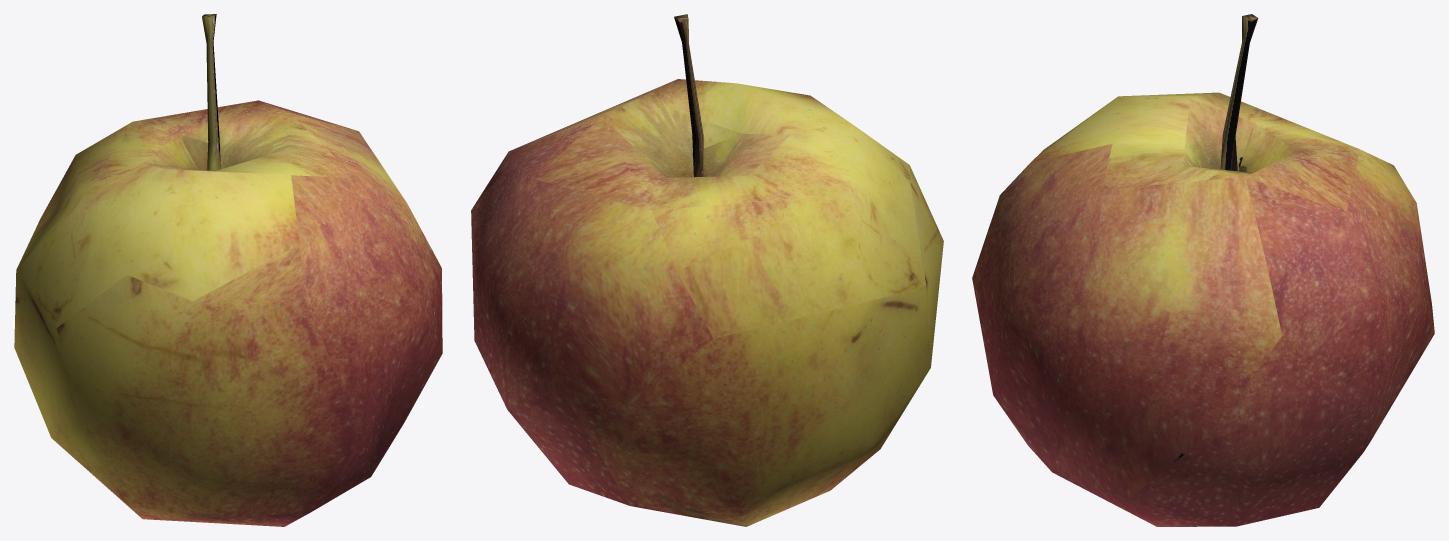
The picture shows the model from 3 angles, left to right: view 1: azimuth 30°, elevation 25°; view 2: azimuth 150°, elevation 25°; view 3: azimuth 270°, elevation 25°; orthographic projection. The views are drawn at different scales.
Parts seen in each view (by area): view 1: apple10_lr; view 2: apple10_lr; view 3: apple10_lr.
Boxes of the visible parts, box(x1,y1,x2,y2) form: apple10_lr: box(14, 14, 442, 526); apple10_lr: box(471, 14, 943, 526); apple10_lr: box(972, 14, 1434, 526).
Size of the model in its own units: 96.6 by 110 by 97.23.
